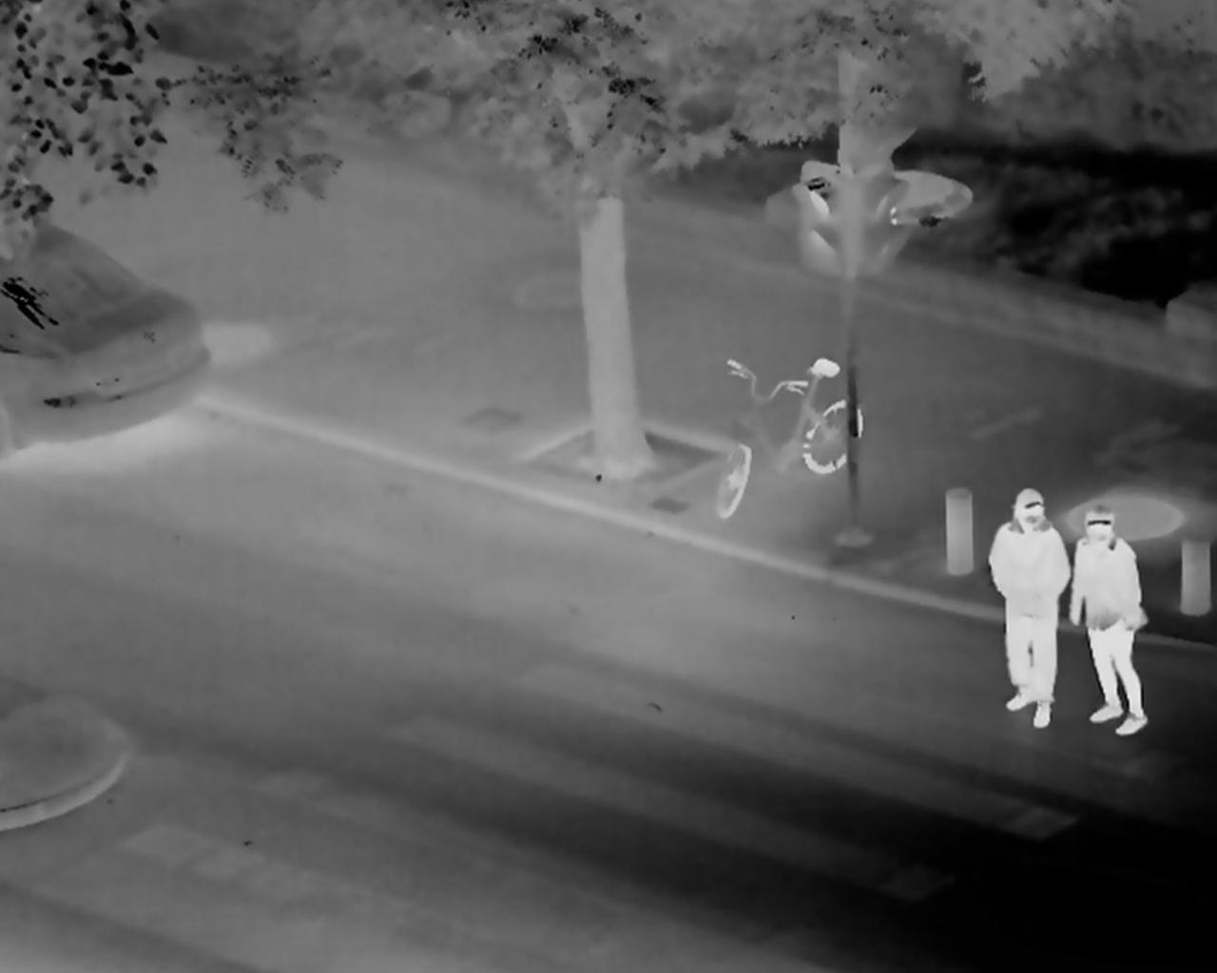person: (990, 486, 1069, 729), (1070, 505, 1149, 740)
